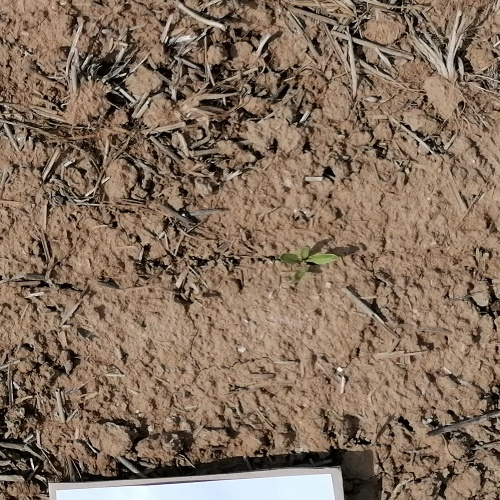beet: (280, 247, 339, 282)
